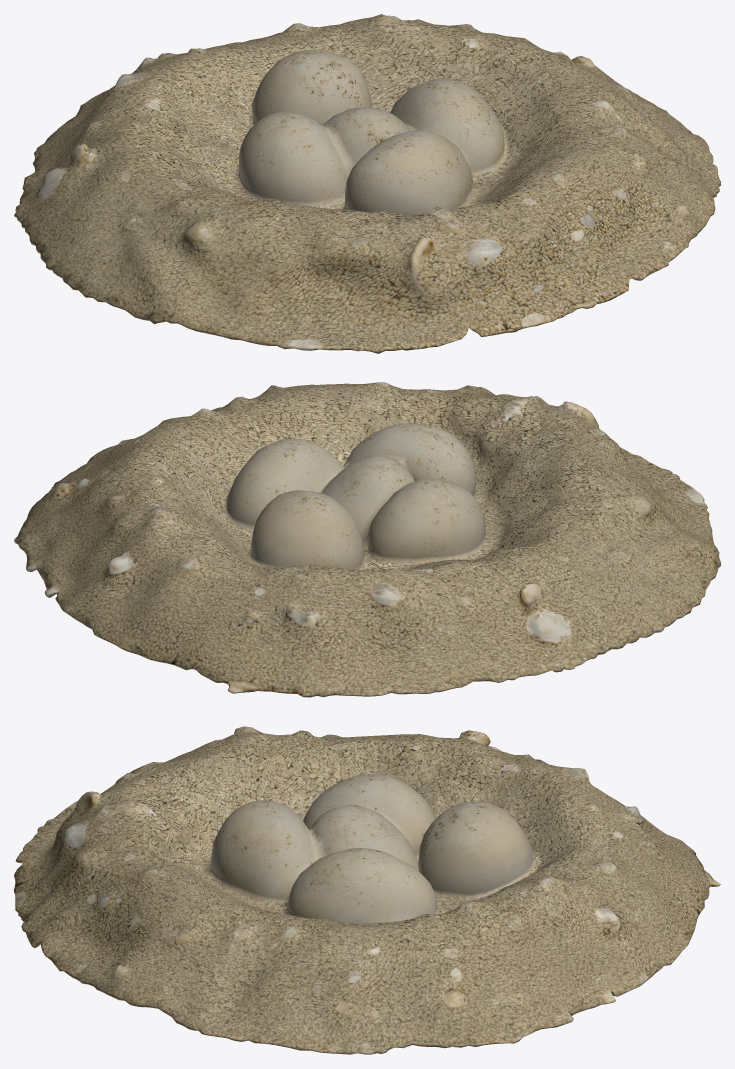
File: ninho_poly.glb
3 renders of one model, top to bottom at view 1: azimuth 30°, elevation 25°; view 2: azimuth 150°, elevation 25°; view 3: azimuth 270°, elevation 25°, orthographic. The views are drawn at different scales.
Size of the model in its own units: 1.9 by 0.2975 by 1.87.
Materials: 1 (1 with a texture image).
